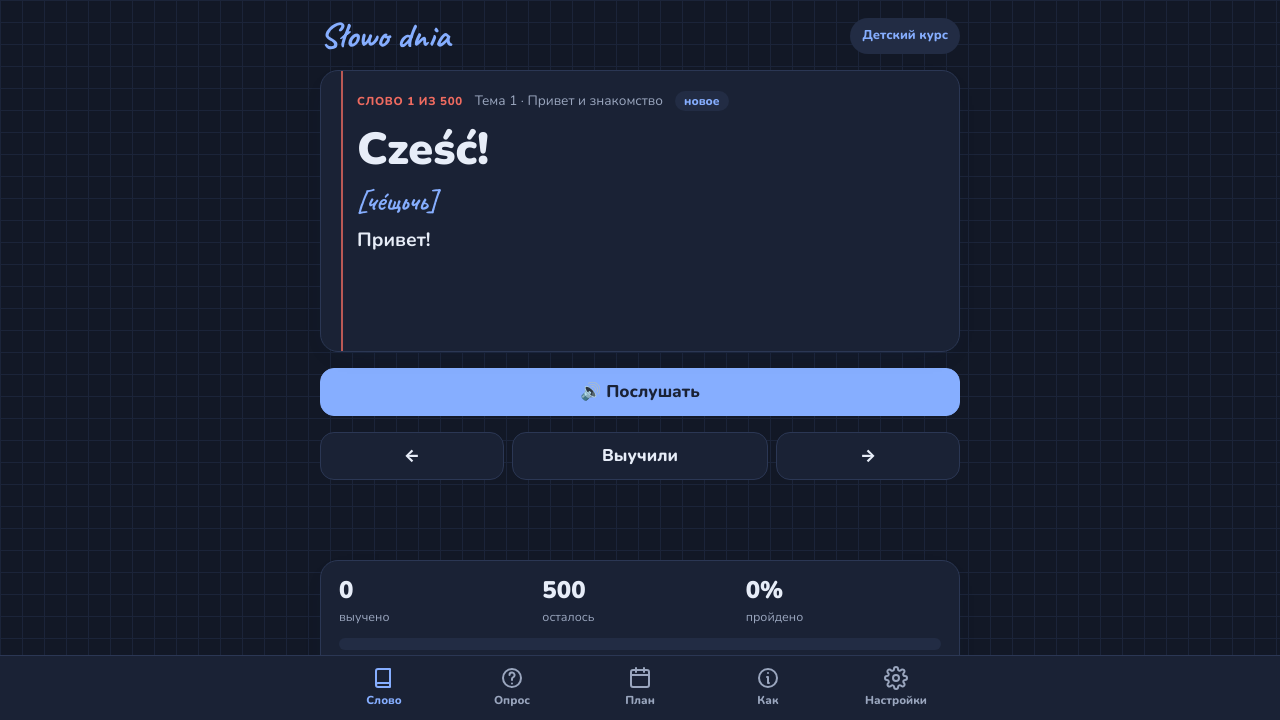
Test: word card › neither learned nor the next new → the badge keeps its place, hidden from reading
The width and height of the screenshot is (1280, 720).
Click the button named "Следующее слово": (868, 456) [776,432,960,480]
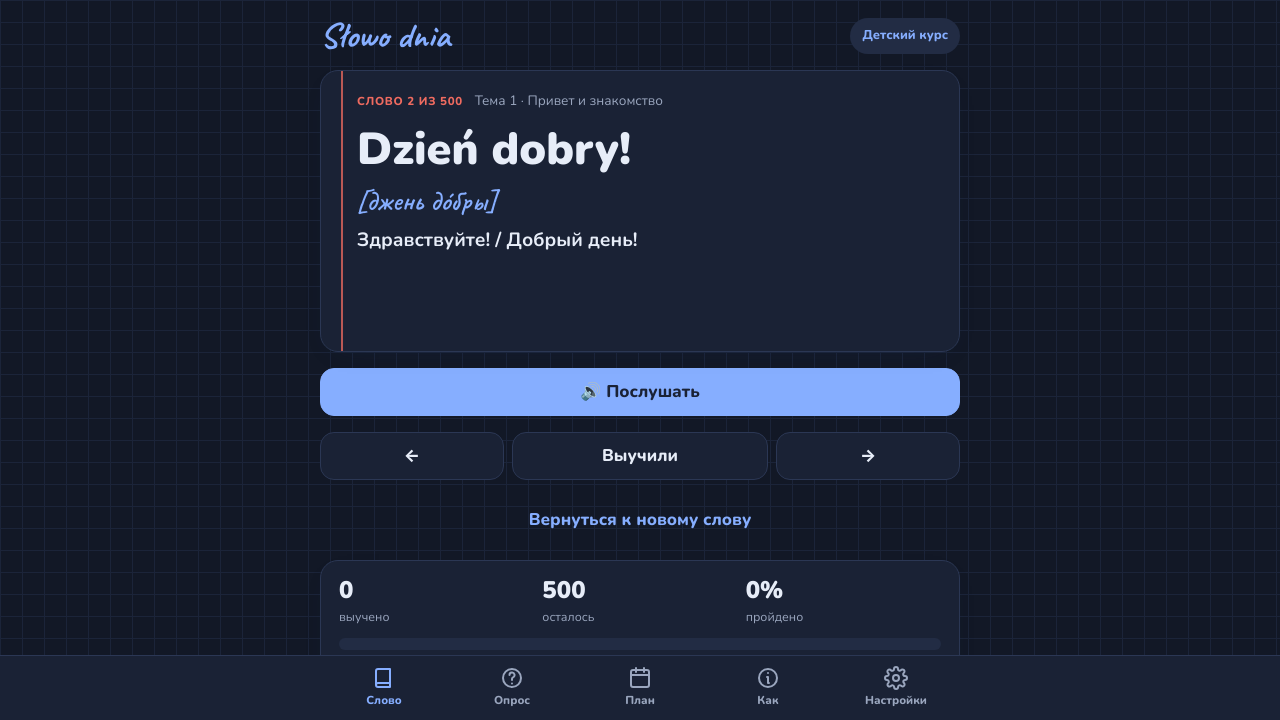
Check: the element with class "meta" does not show "выучено", box [357,91,663,110]
Check: the element with class "meta" no longer shows "новое", box [357,91,663,110]
